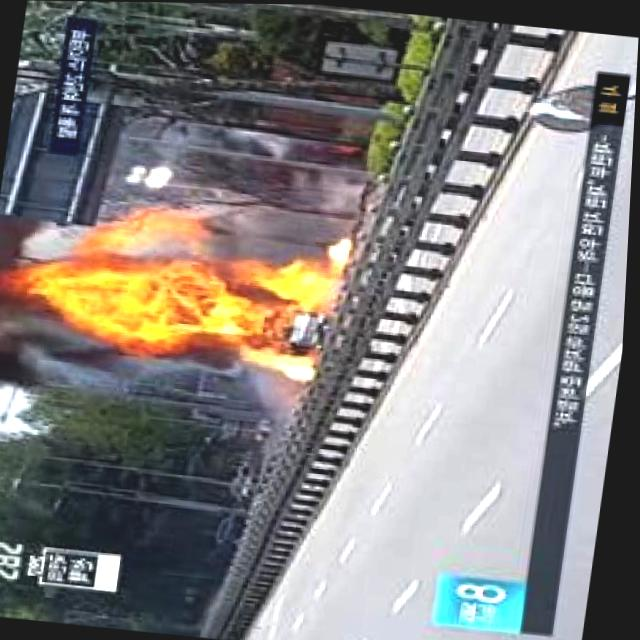helmet: (0, 196, 354, 384)
